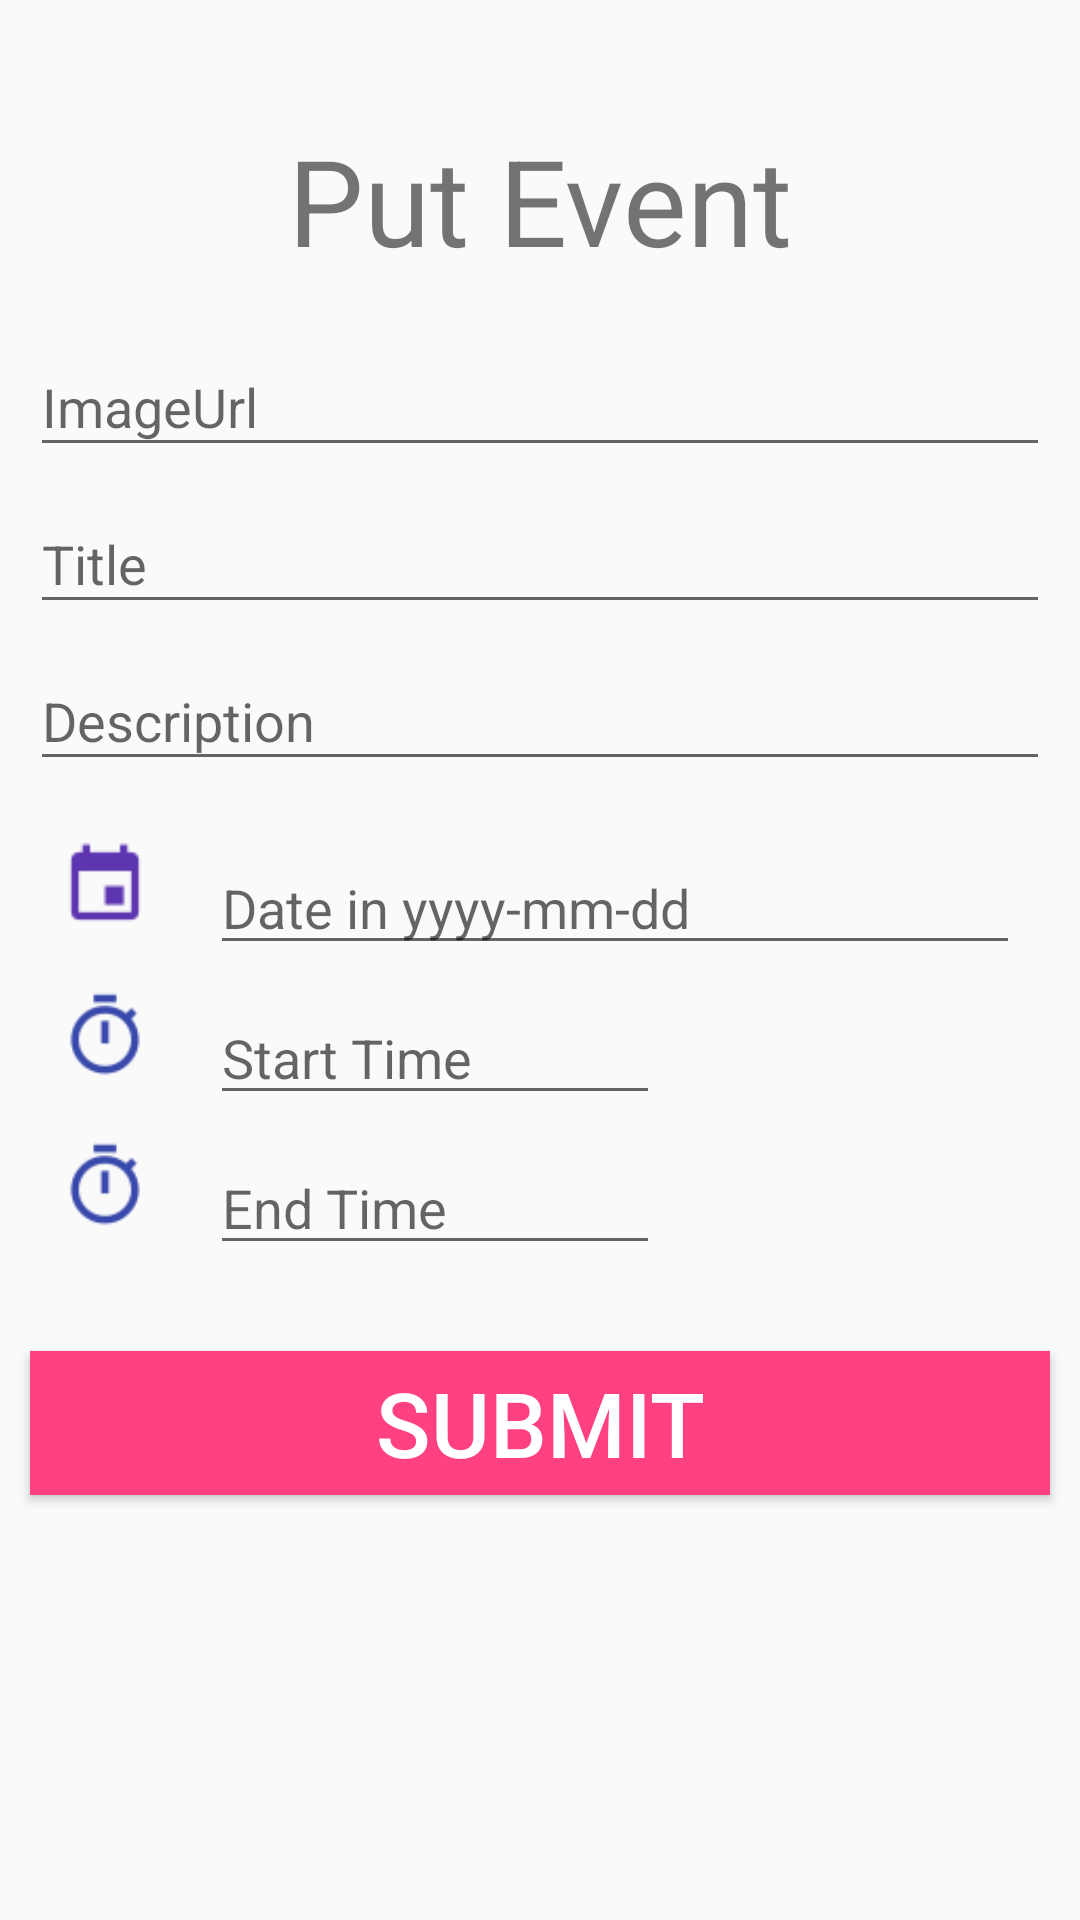

Locate icon controls on the screen. Image size 1080x1920, boxes as BBox(x1, y1, x2, y2).
calendar: BBox(70, 843, 140, 921)
timer: BBox(70, 993, 140, 1075), BBox(70, 1143, 140, 1225)
